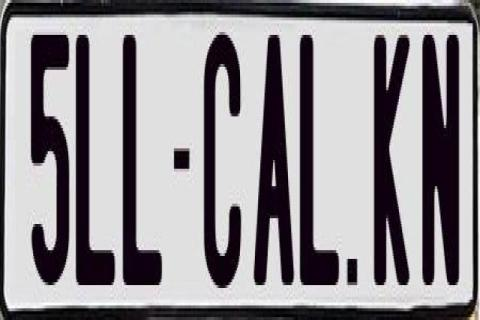0: (31, 26, 73, 288)
A: (252, 35, 298, 294)
C: (202, 29, 243, 291)
K: (371, 35, 409, 291)
L: (297, 29, 343, 294), (73, 29, 116, 288), (120, 29, 164, 279)
N: (419, 32, 460, 300)
